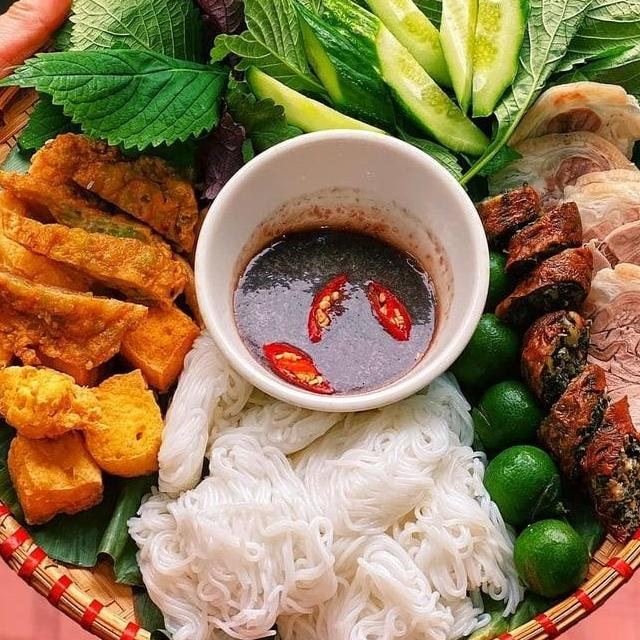bun: (115, 317, 542, 640)
bun dau: (0, 16, 640, 640)
cha com: (0, 122, 205, 381)
dau hu: (62, 363, 176, 489), (0, 180, 105, 302), (0, 417, 113, 527), (110, 285, 206, 394), (0, 286, 23, 427)
doi sun: (569, 390, 640, 548), (536, 359, 612, 491), (491, 239, 596, 332), (516, 299, 596, 413), (496, 196, 586, 287), (474, 175, 546, 248)
thit heo: (477, 70, 640, 203), (540, 158, 640, 329), (578, 255, 640, 460)
